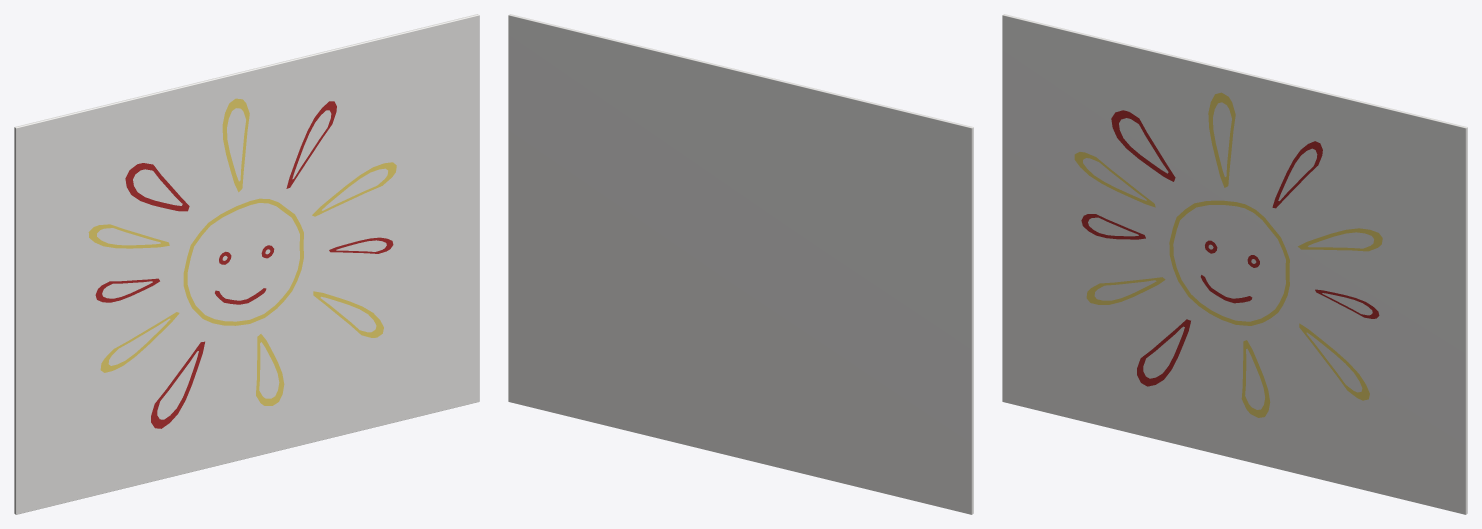
Rendered from Frame_6.glb.
3 views of the same model, side by side, from view 1: azimuth 30°, elevation 25°; view 2: azimuth 150°, elevation 25°; view 3: azimuth 330°, elevation 25° (orthographic).
Visible parts, largest first — view 1: Childrens_Drawing_1; view 2: Childrens_Drawing_1; view 3: Childrens_Drawing_1.
Boxes of the visible parts, box(x1,y1,x2,y2) form: Childrens_Drawing_1: box(14, 14, 479, 514); Childrens_Drawing_1: box(508, 14, 973, 514); Childrens_Drawing_1: box(1002, 14, 1467, 514).
Size of the model in its own units: 1.28 by 1.02 by 0.00926.
1 material, 1 textured.
